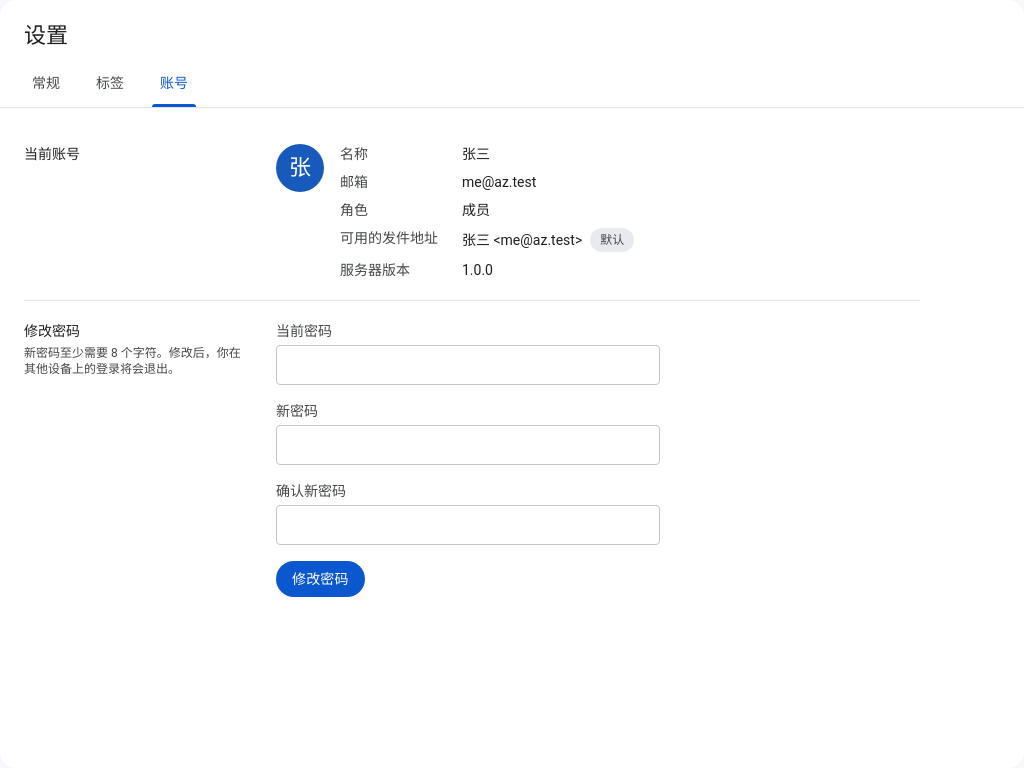
Test: Settings → 账号 › shows the account and validates the password form
Expected: the text "me@az.test" is shown, top-left (462, 174), bottom-right (536, 190)
In the password field labelled "当前密码": (468, 366) top-left (289, 346), bottom-right (647, 384), type "old-password"
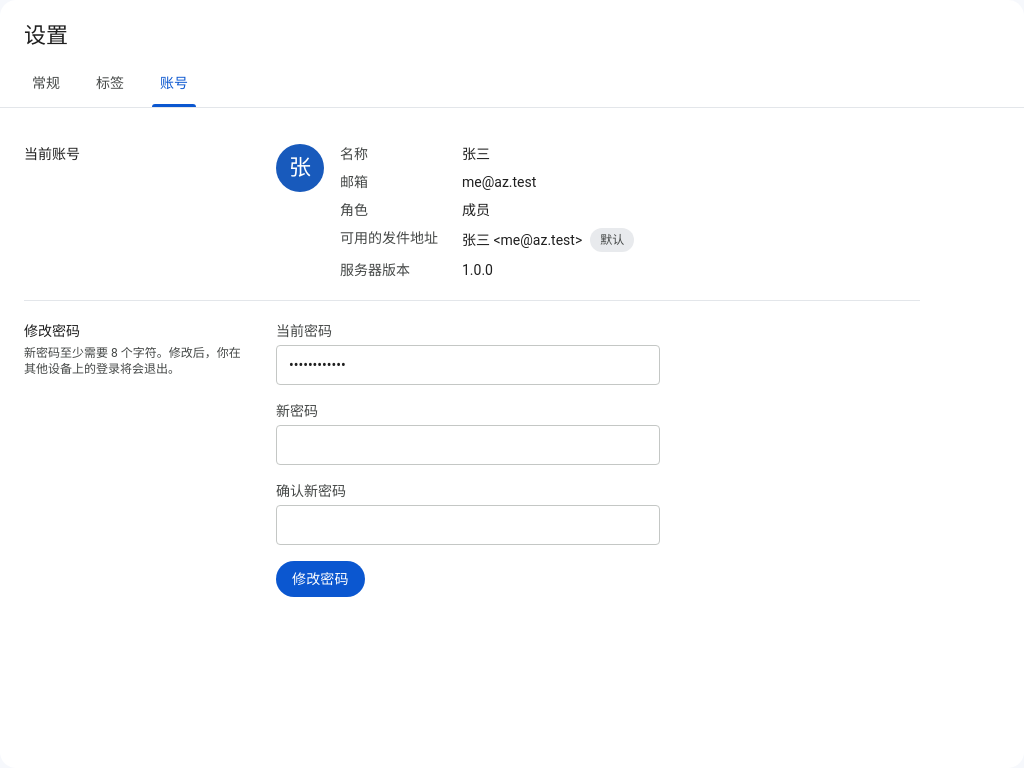
In the password field labelled "新密码": (468, 446) top-left (289, 426), bottom-right (647, 464), type "new-password"
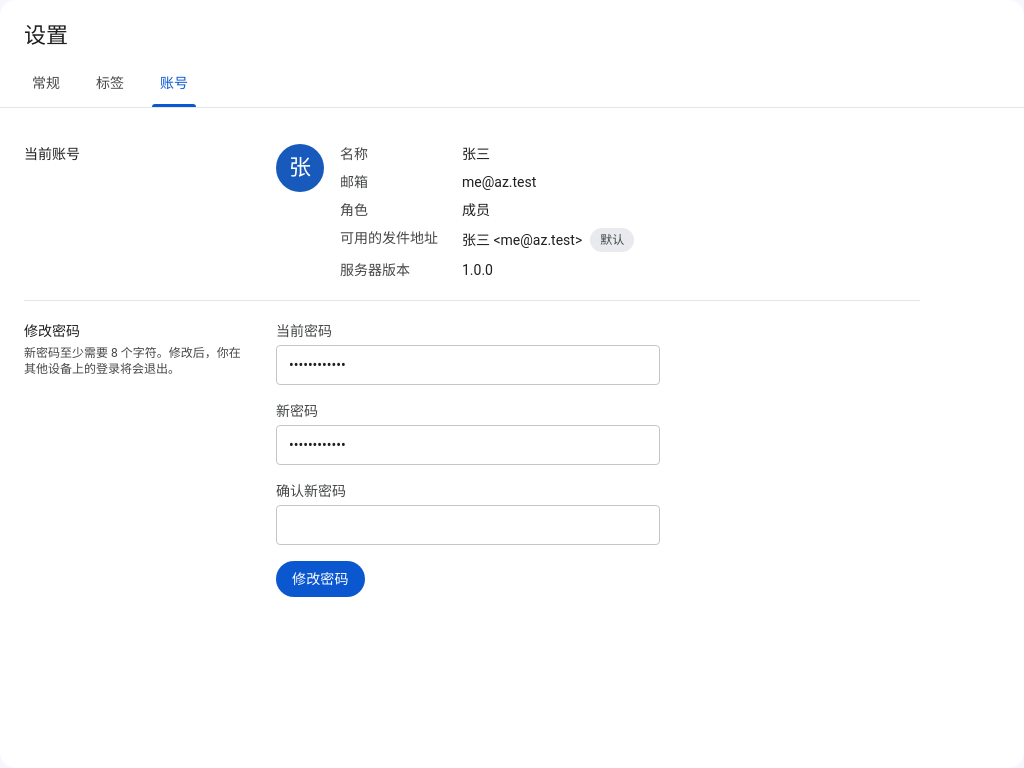
In the password field labelled "确认新密码": (468, 526) top-left (289, 506), bottom-right (647, 544), type "other-password"
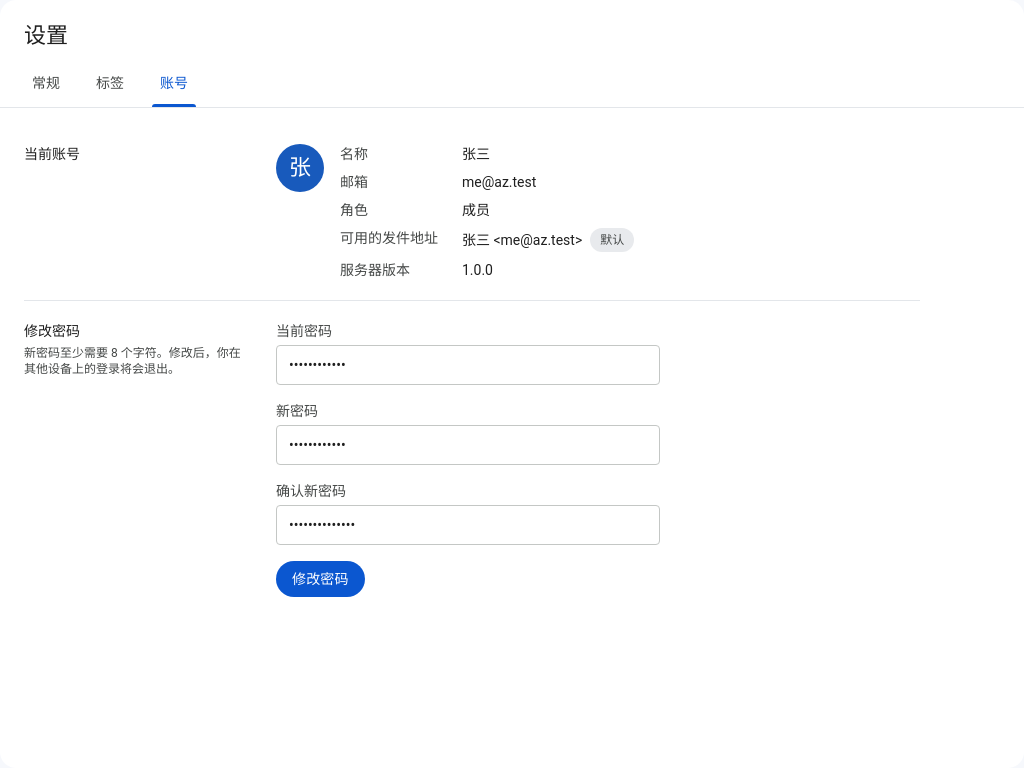
Click the button "修改密码": click(320, 580) top-left (276, 562), bottom-right (365, 598)
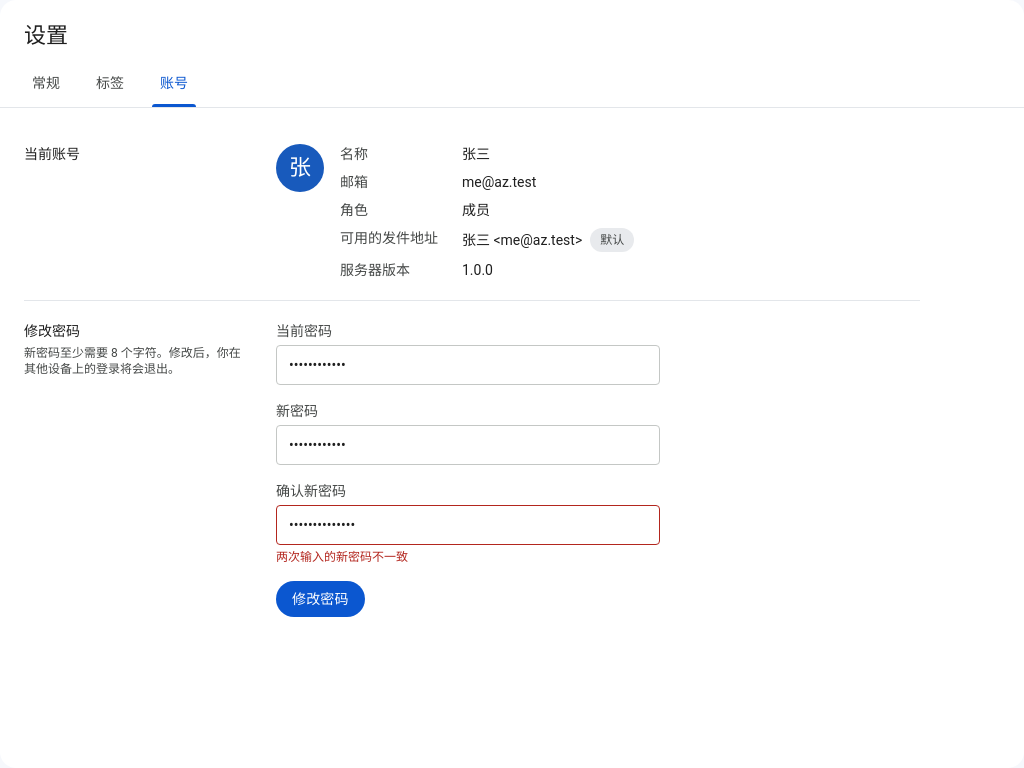
Expected: the text "两次输入的新密码不一致" is shown, top-left (276, 550), bottom-right (408, 564)
